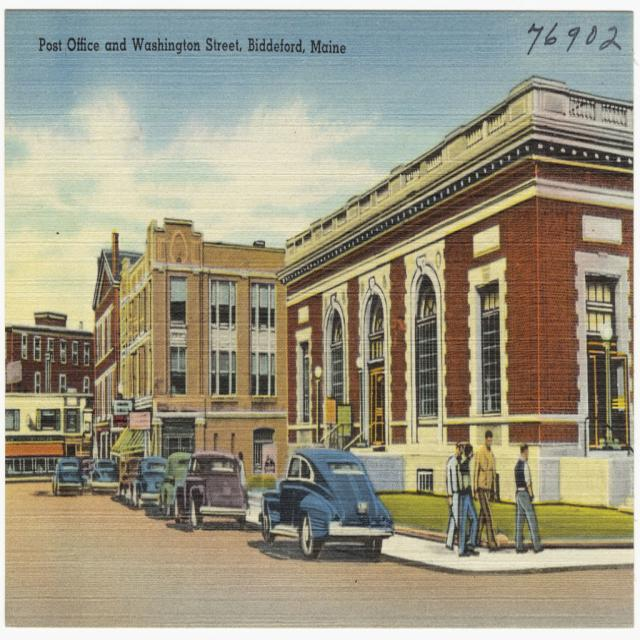car: (256, 445, 402, 561), (173, 448, 243, 530)
